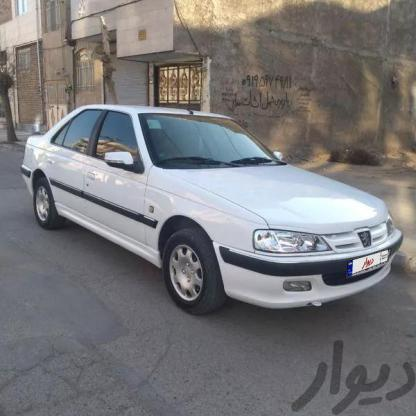truck: (16, 90, 410, 327)
